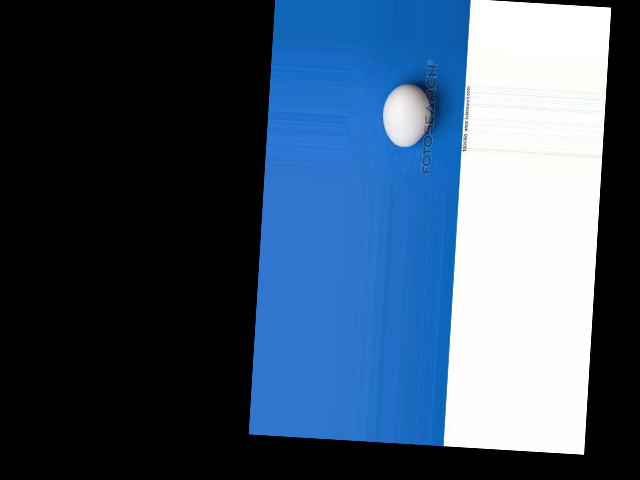egg: (381, 82, 434, 148)
